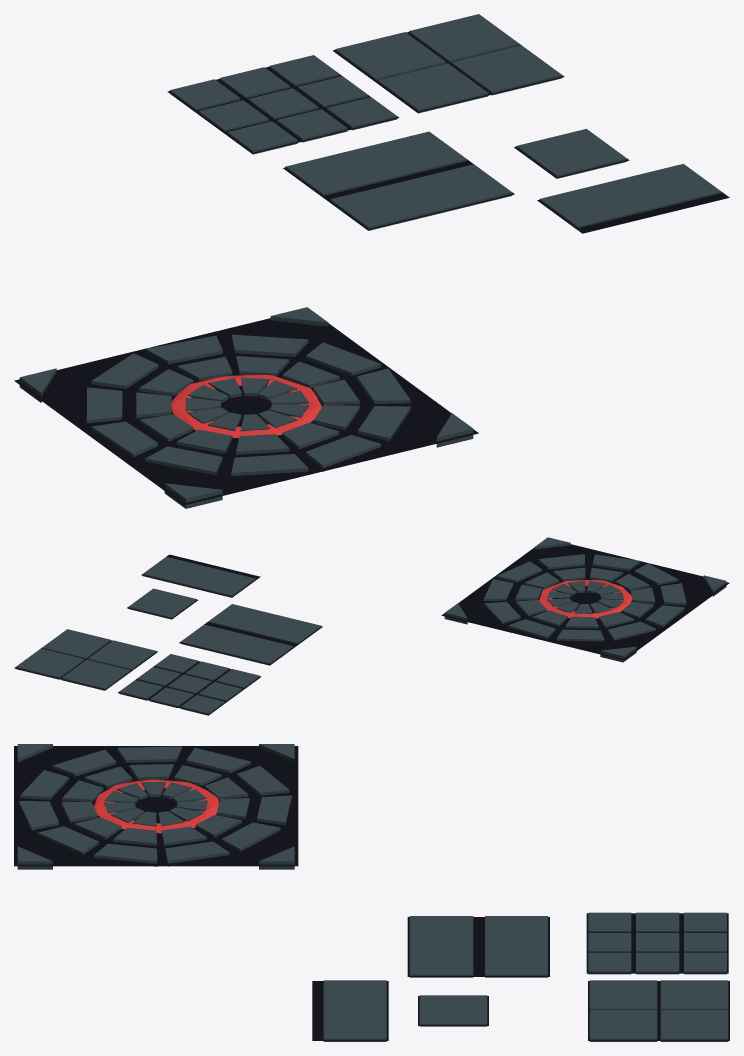
The model's file is 8x8_Tile_singlebig_stone.fbx.
3 renders of one model, top to bottom at view 1: azimuth 30°, elevation 25°; view 2: azimuth 150°, elevation 25°; view 3: azimuth 270°, elevation 25°, orthographic. The views are drawn at different scales.
Parts seen in each view (by area): view 1: PlatformCircle, Plane.006, 8x8_two_stone_tile.001, 8x8_four_stone_tile, 8x8_four_stone_tile.002, single_tile; view 2: PlatformCircle, Plane.006, 8x8_two_stone_tile.001, 8x8_four_stone_tile, 8x8_four_stone_tile.002, single_tile; view 3: PlatformCircle, Plane.006, 8x8_two_stone_tile.001, 8x8_four_stone_tile, 8x8_four_stone_tile.002, single_tile.
Boxes of the visible parts, x1,y1,x2,y2 form: PlatformCircle: [14, 307, 478, 508]; Plane.006: [167, 55, 399, 154]; 8x8_two_stone_tile.001: [283, 131, 514, 230]; 8x8_four_stone_tile: [332, 14, 564, 113]; 8x8_four_stone_tile.002: [537, 164, 729, 233]; single_tile: [514, 129, 629, 178]; PlatformCircle: [441, 537, 729, 662]; Plane.006: [118, 654, 261, 715]; 8x8_two_stone_tile.001: [179, 604, 322, 665]; 8x8_four_stone_tile: [14, 629, 157, 690]; 8x8_four_stone_tile.002: [141, 554, 260, 597]; single_tile: [127, 588, 197, 619]; PlatformCircle: [14, 744, 298, 869]; Plane.006: [586, 912, 728, 974]; 8x8_two_stone_tile.001: [407, 916, 549, 977]; 8x8_four_stone_tile: [588, 980, 729, 1041]; 8x8_four_stone_tile.002: [312, 980, 388, 1041]; single_tile: [418, 995, 488, 1026].
Size of the model in its own units: 3930 by 67.18 by 4031.
